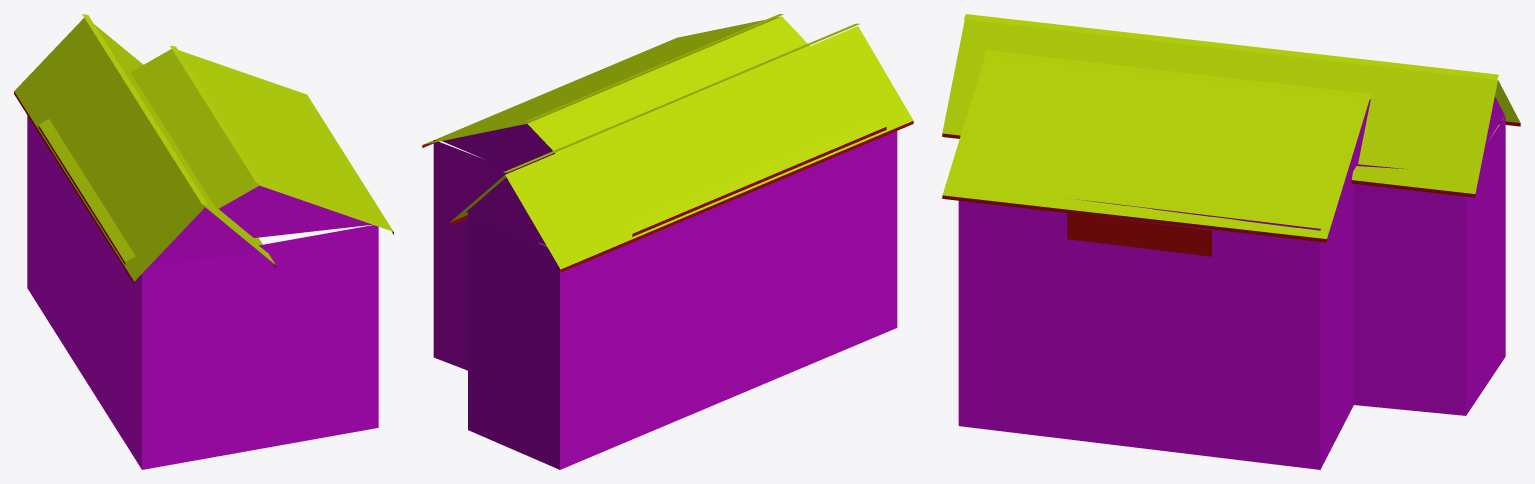
File: bgj_372.glb
3 views of the same model, side by side, from view 1: azimuth 30°, elevation 25°; view 2: azimuth 150°, elevation 25°; view 3: azimuth 270°, elevation 25° (orthographic). The views are drawn at different scales.
Parts seen in each view (by area): view 1: bgj_372; view 2: bgj_372; view 3: bgj_372.
Boxes of the visible parts, x1=… form: bgj_372: x1=14, y1=14, x2=393, y2=469; bgj_372: x1=422, y1=14, x2=913, y2=469; bgj_372: x1=942, y1=14, x2=1520, y2=469.
Bounding box in the file's own units: 13.41 × 10.67 × 17.95.
